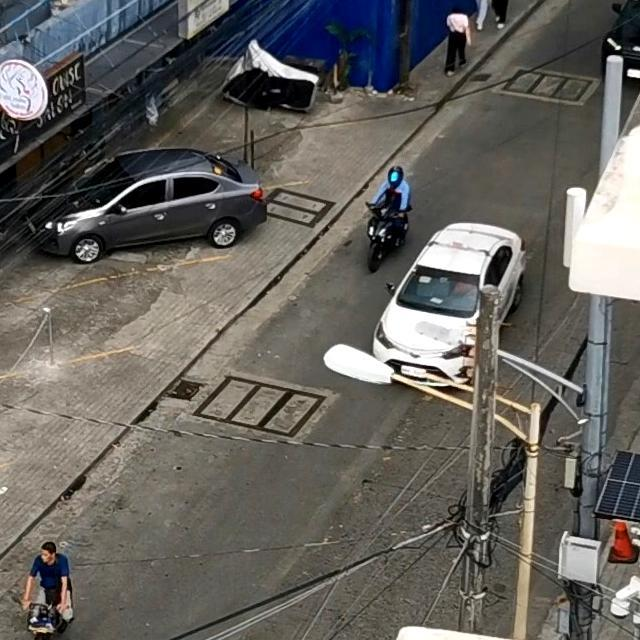Car: (14, 136, 280, 272), (366, 203, 546, 403), (591, 0, 640, 114)
